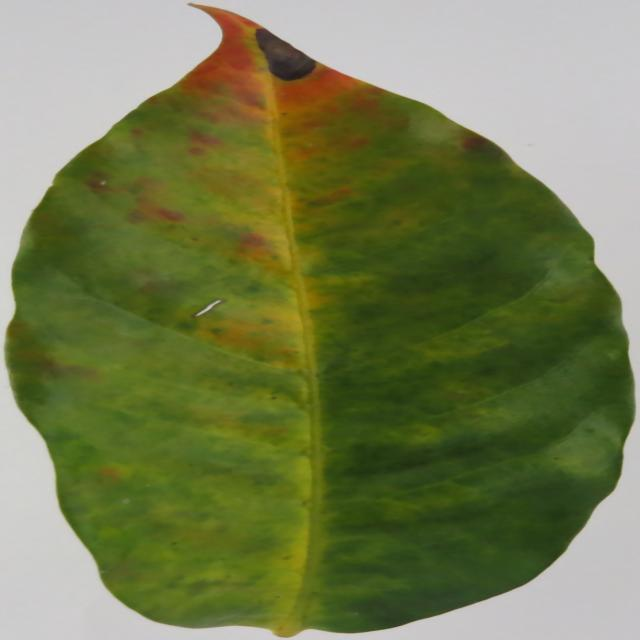DeficienciaNutricional-Fosforo: (8, 6, 632, 636)
